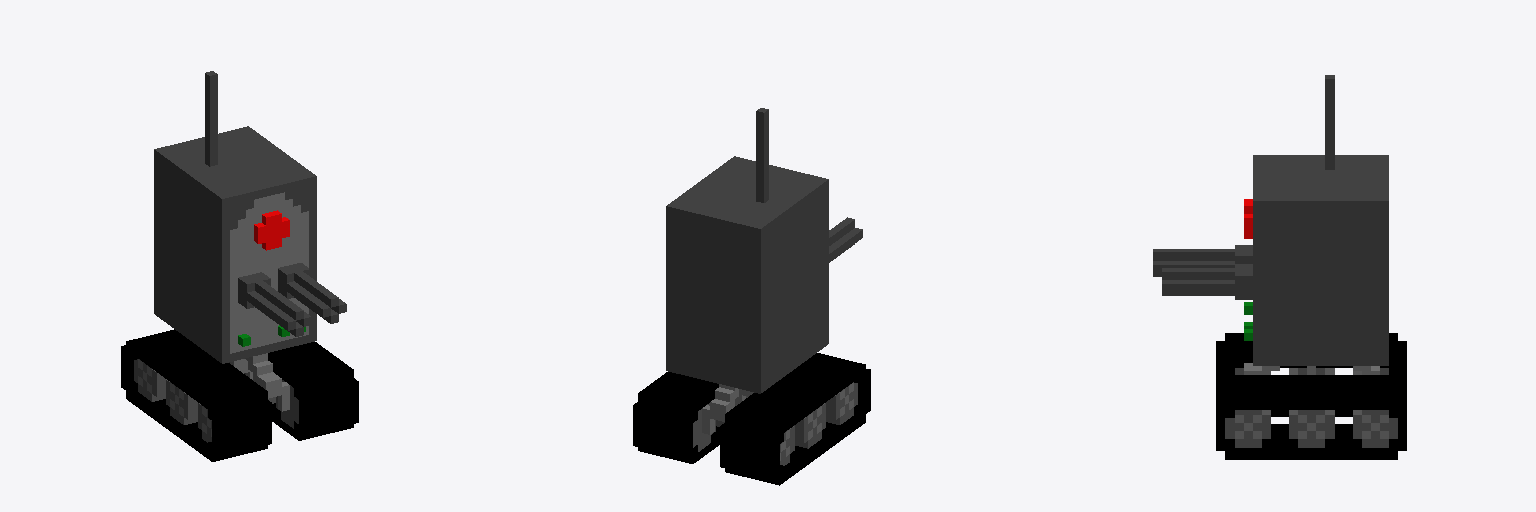
The picture shows the model from 3 angles: view 1: azimuth 30°, elevation 25°; view 2: azimuth 150°, elevation 25°; view 3: azimuth 270°, elevation 25°; orthographic projection.
Visible parts, largest first — view 1: object 1; view 2: object 1; view 3: object 1.
Part boxes in pixels (left/top/right/bottom): object 1: left=121, top=71, right=358, bottom=461; object 1: left=633, top=108, right=870, bottom=485; object 1: left=1153, top=75, right=1406, bottom=459.
Bounding box in the file's own units: 1.8 × 4.1 × 2.8.
1 materials, 1 textured.